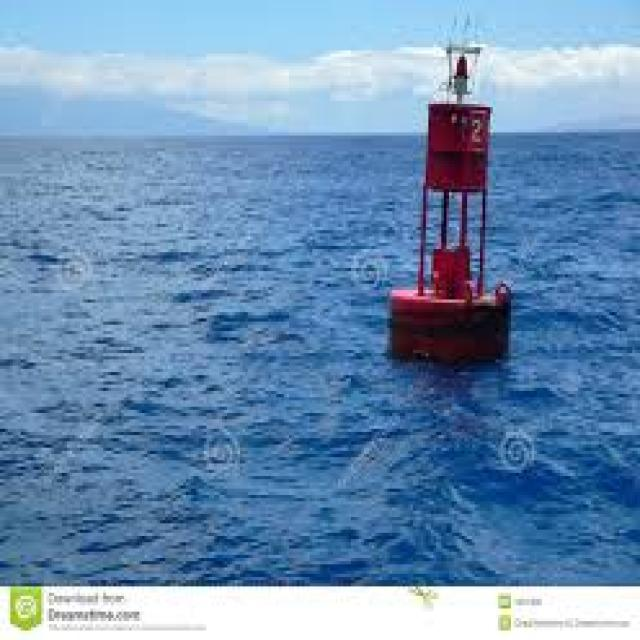buoy: (381, 8, 527, 376)
